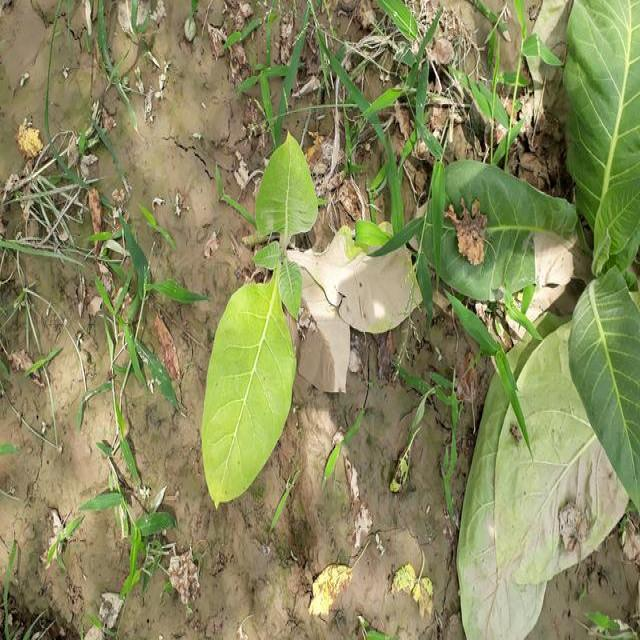crop: (417, 0, 640, 640), (202, 143, 416, 500)
